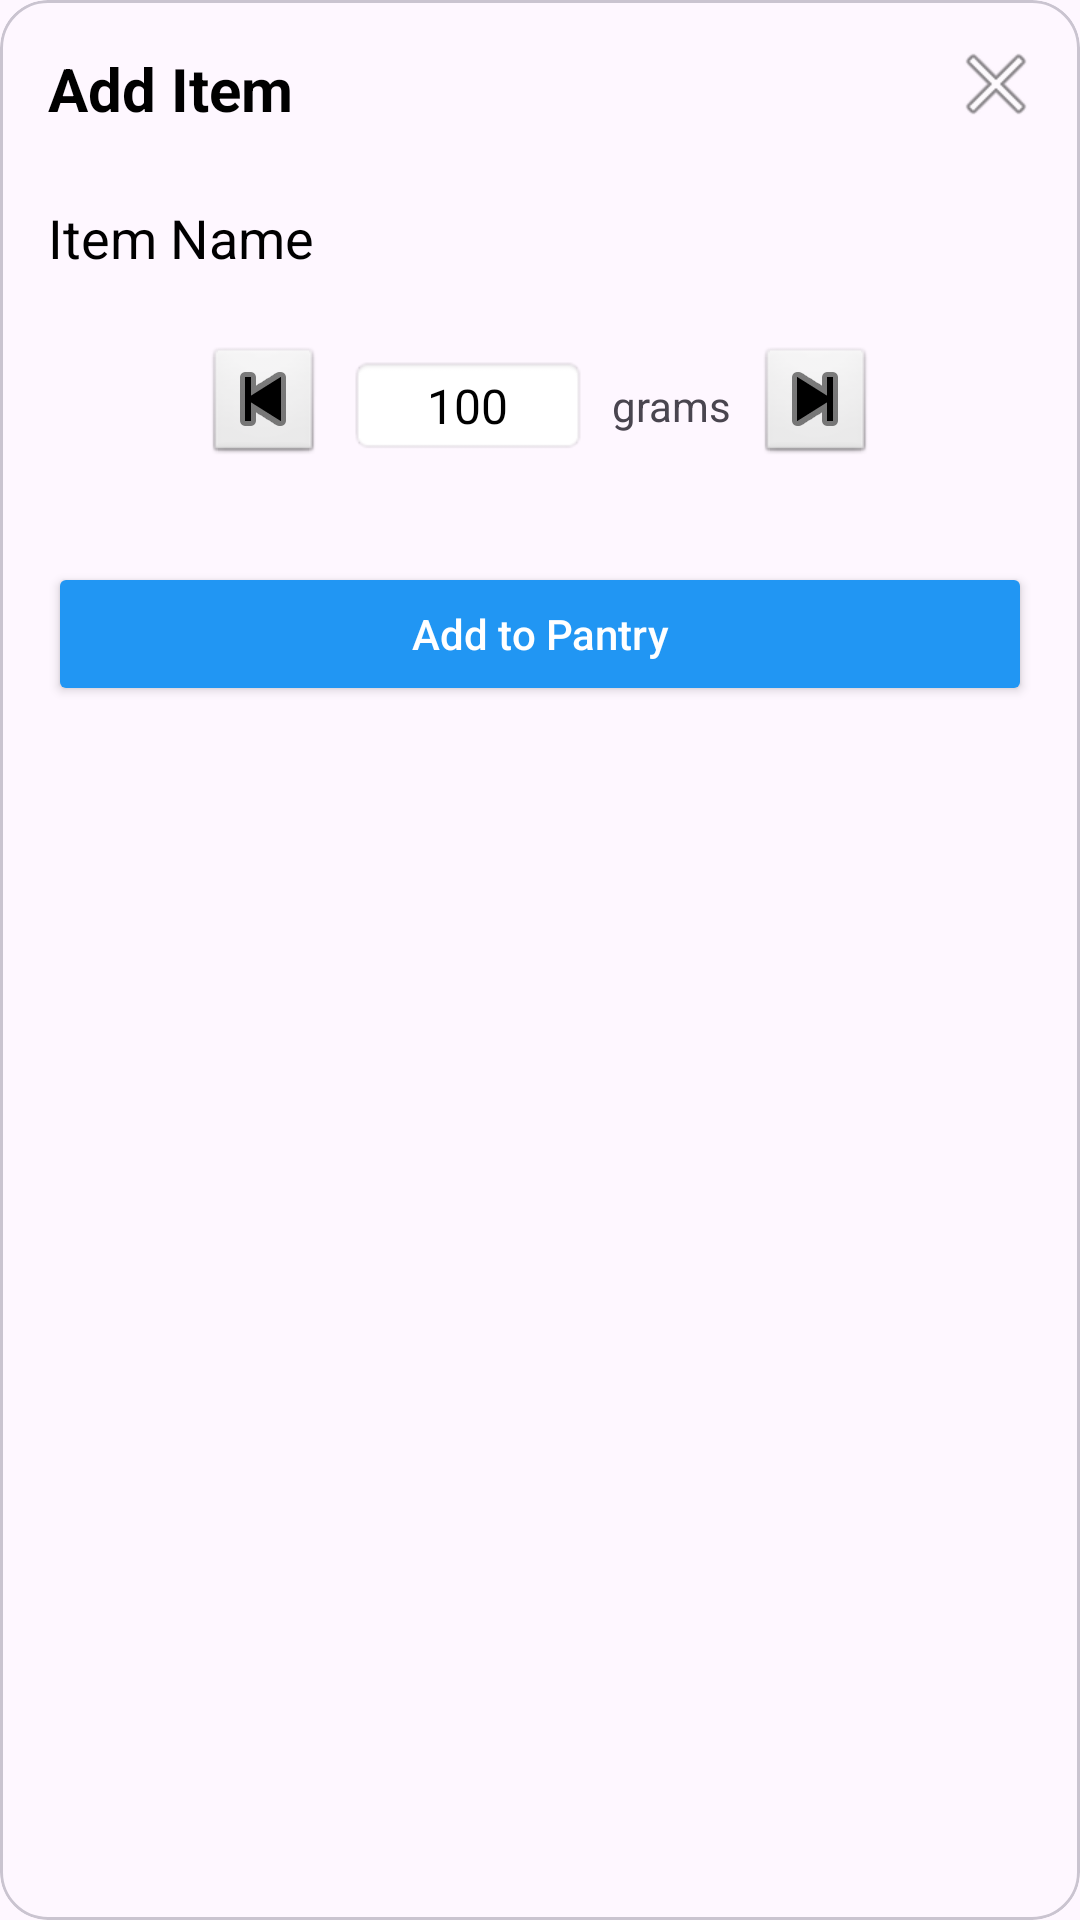

Icons on this 1080w x 1920h Android screen, each with the point to tap as point (x, y):
close clear cancel: point (996, 84)
next: point (815, 401)
previous: point (263, 401)
